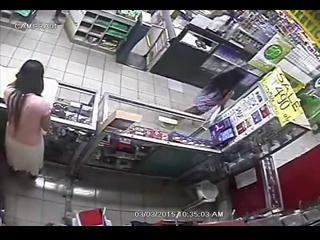Normal: (3, 59, 53, 179)
